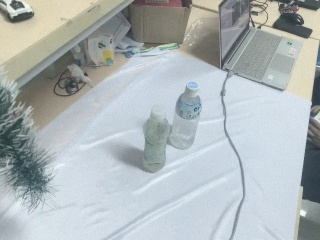bottle: (168, 81, 203, 150), (141, 104, 171, 174)
box: (126, 1, 192, 49)
mouse: (278, 6, 305, 24)
phone: (270, 18, 315, 38)
toy_car: (1, 1, 35, 23)
